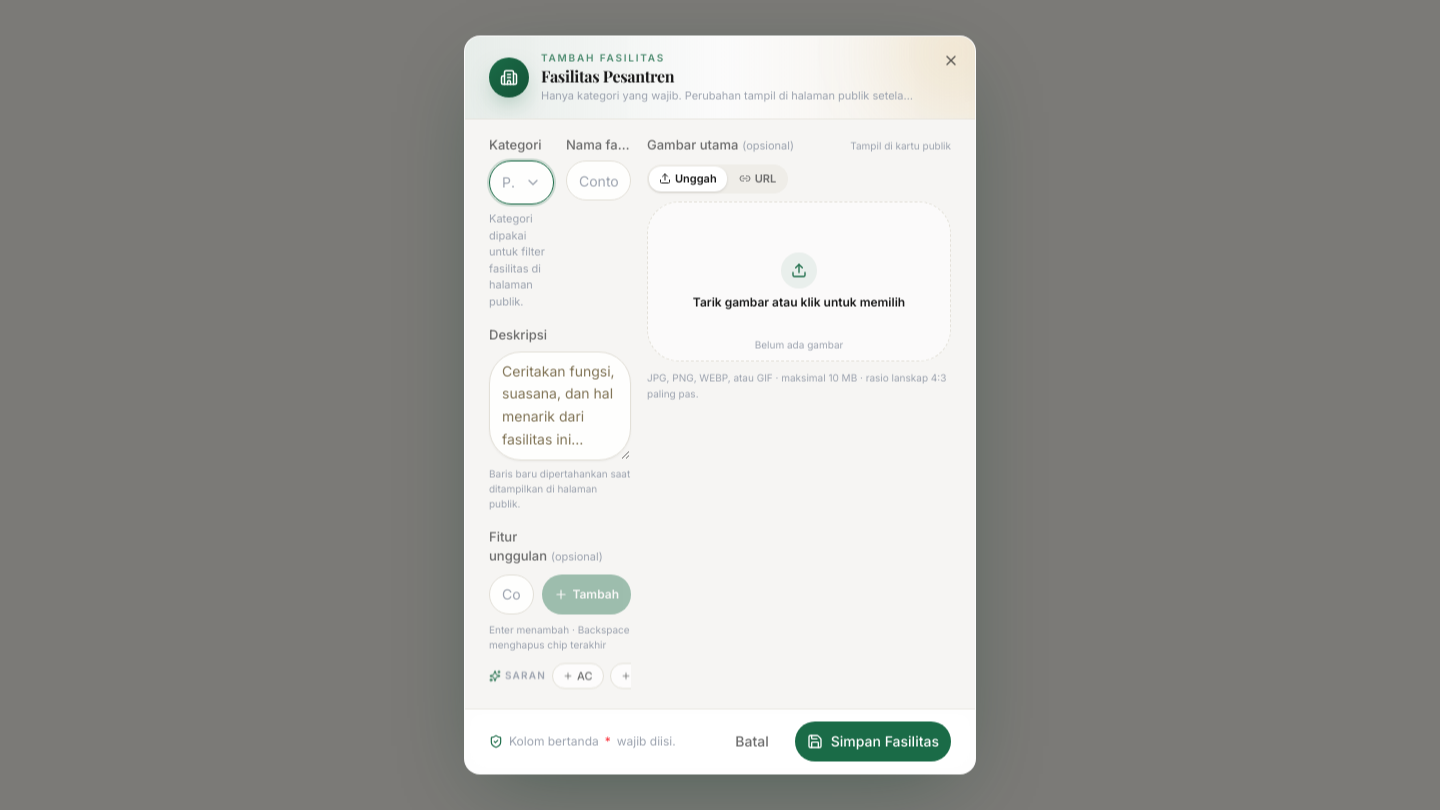
Test: FacilityFormDialog — validasi › menampilkan error URL gambar dan tidak menyimpan data
The image size is (1440, 810).
Click the button "URL" at point(757, 179), box [729, 166, 786, 191]
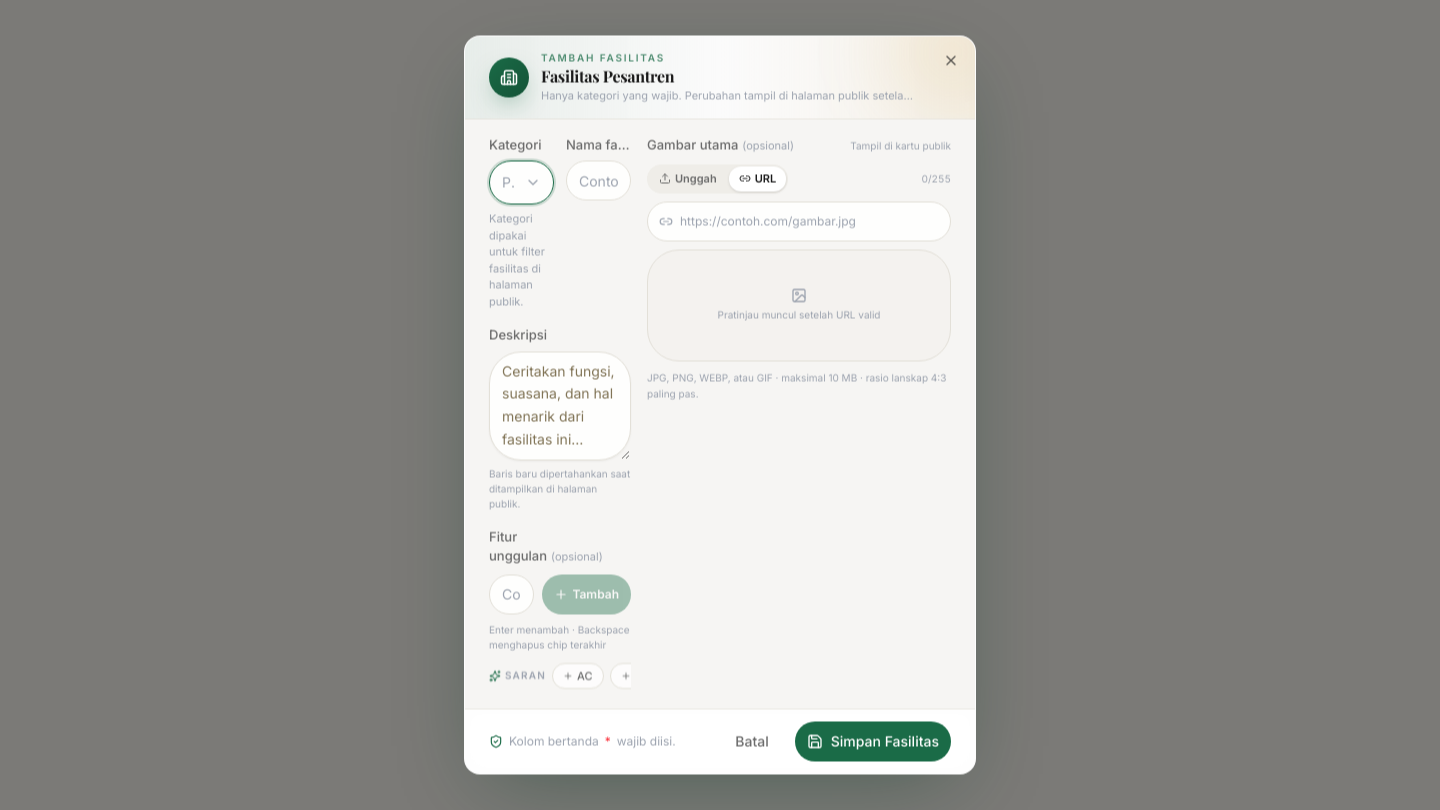
Type "bukan-url" into the field named "URL gambar" at point(799, 221), box [647, 201, 951, 241]
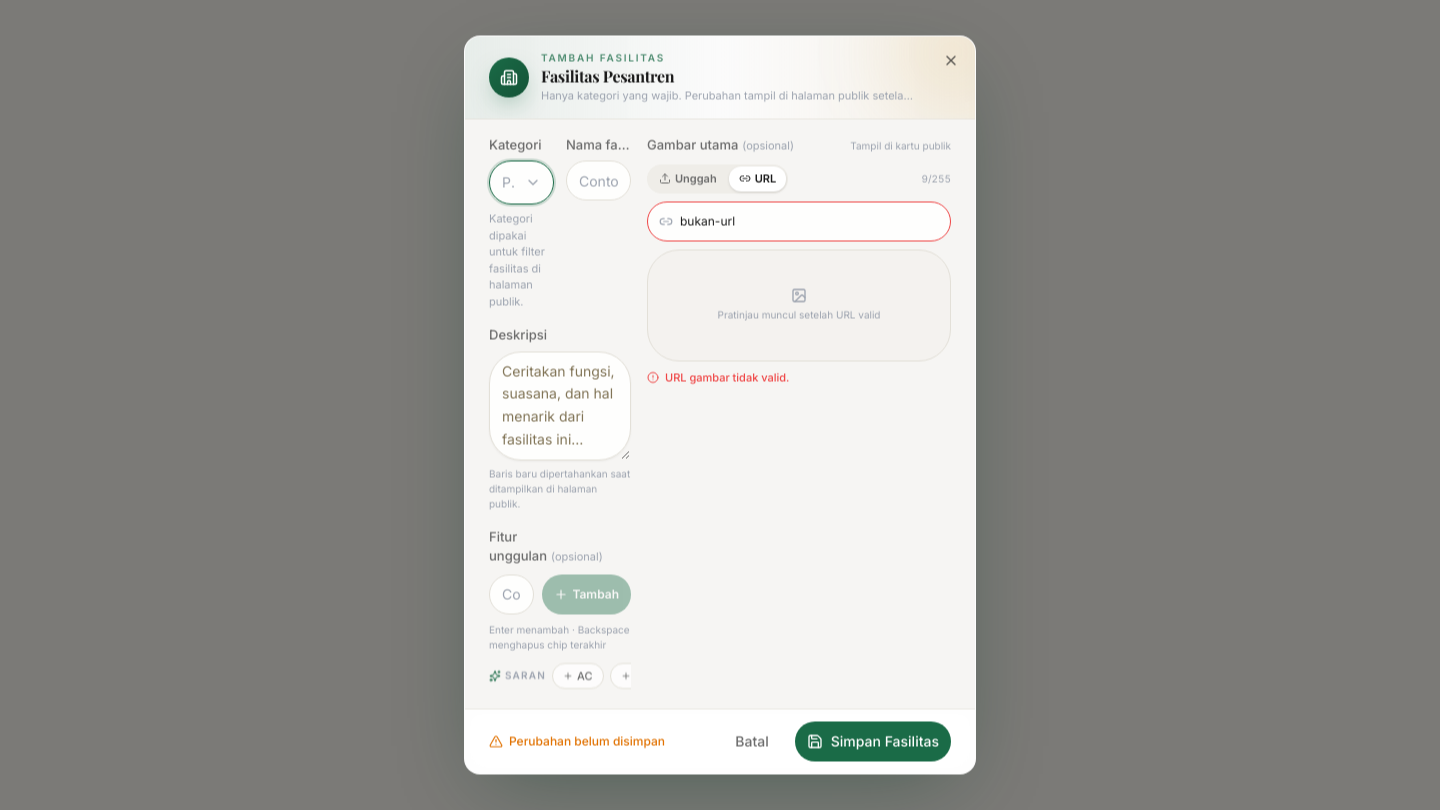
Expected: the text "URL gambar tidak valid." is shown, [647, 370, 789, 384]
Click the button "Simpan Fasilitas" at point(873, 742), box [795, 722, 951, 762]
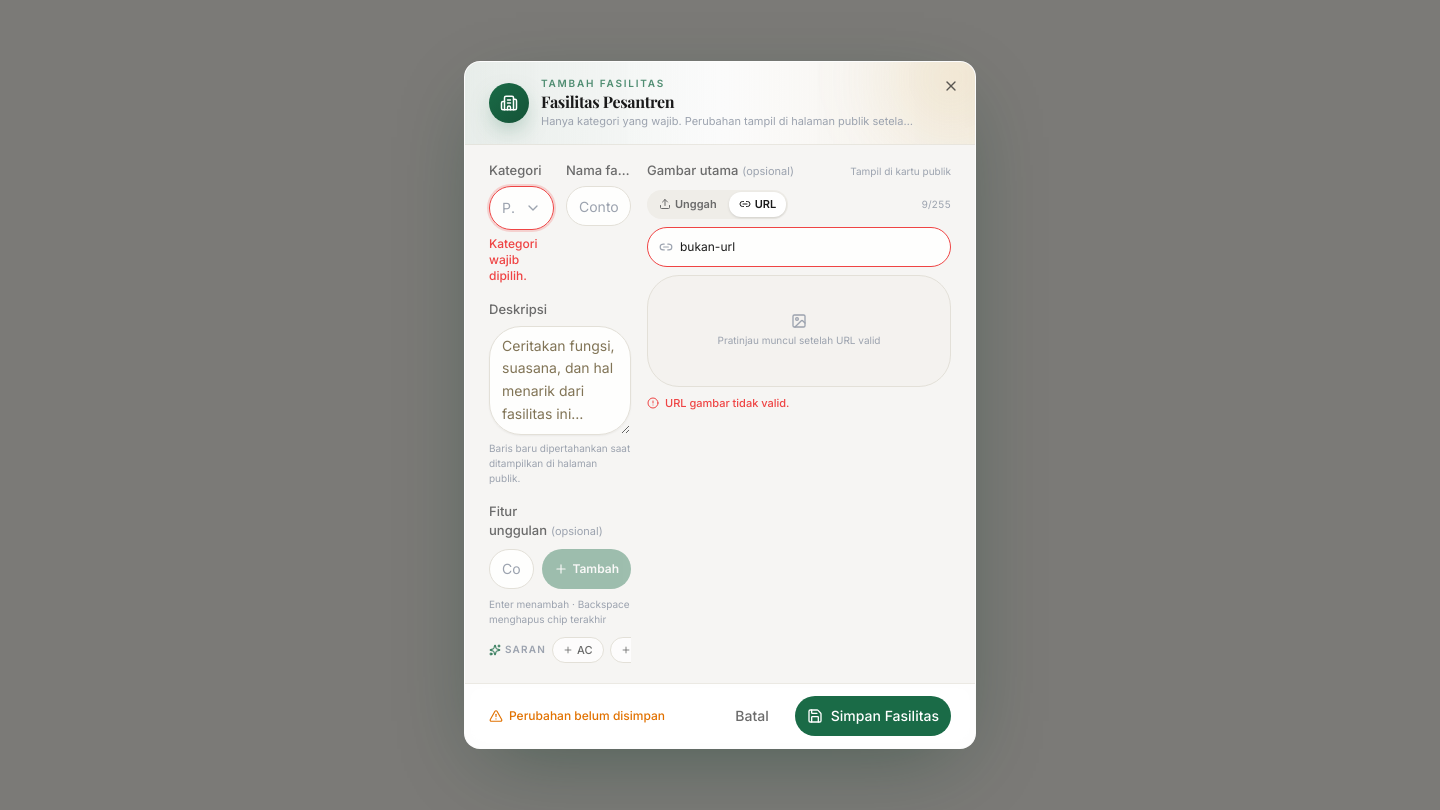
Expected: the text "Kategori wajib dipilih." is shown, [489, 236, 538, 283]
